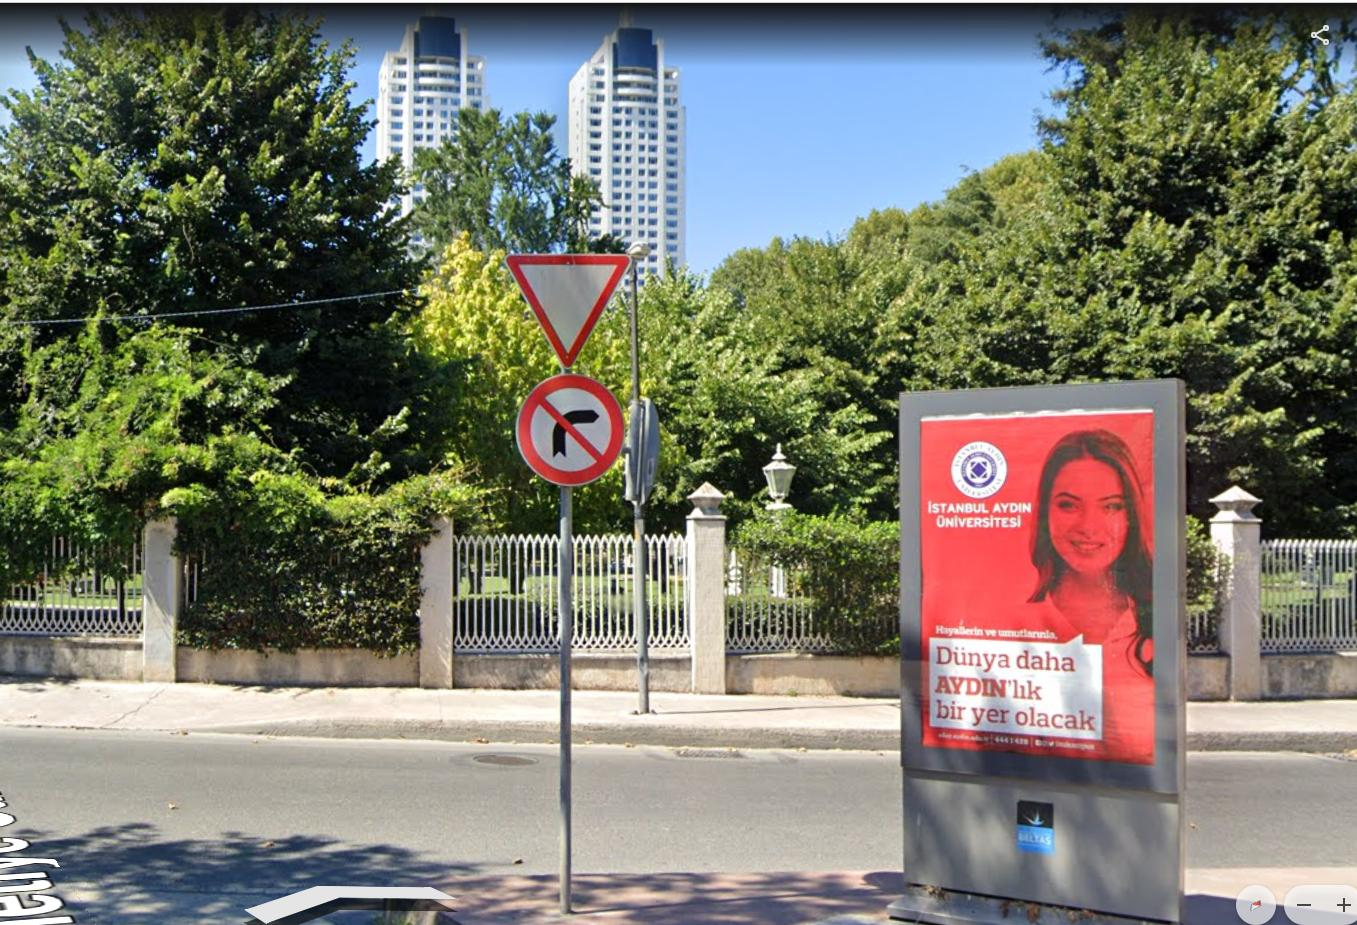rightturnsareforbidden: (510, 369, 626, 487)
